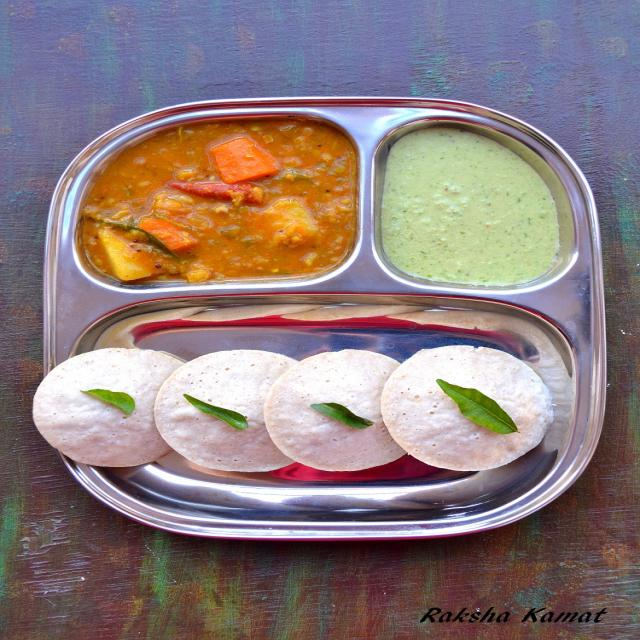chutney: (368, 110, 578, 296)
idli: (151, 342, 328, 477), (379, 340, 557, 471), (267, 339, 418, 473), (33, 346, 195, 464)
